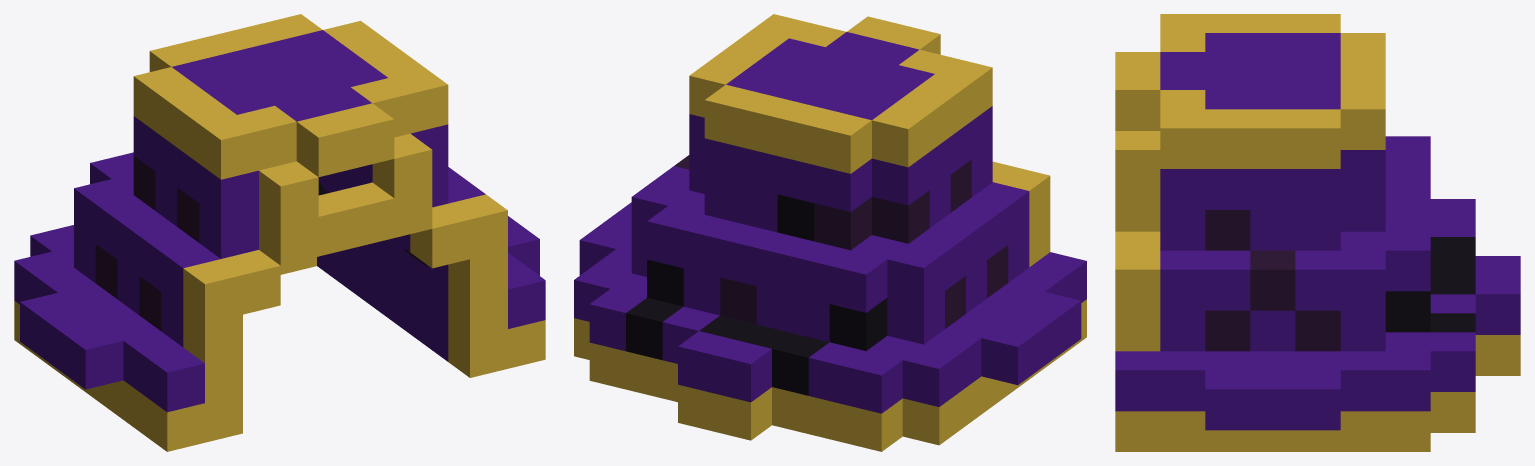
The model's file is Axyl-7.obj.
3 renders of one model, left to right at view 1: azimuth 30°, elevation 25°; view 2: azimuth 150°, elevation 25°; view 3: azimuth 270°, elevation 25°, orthographic. The views are drawn at different scales.
Bounding box in the file's own units: 1.2 × 0.7 × 0.9.
1 material, 1 textured.
